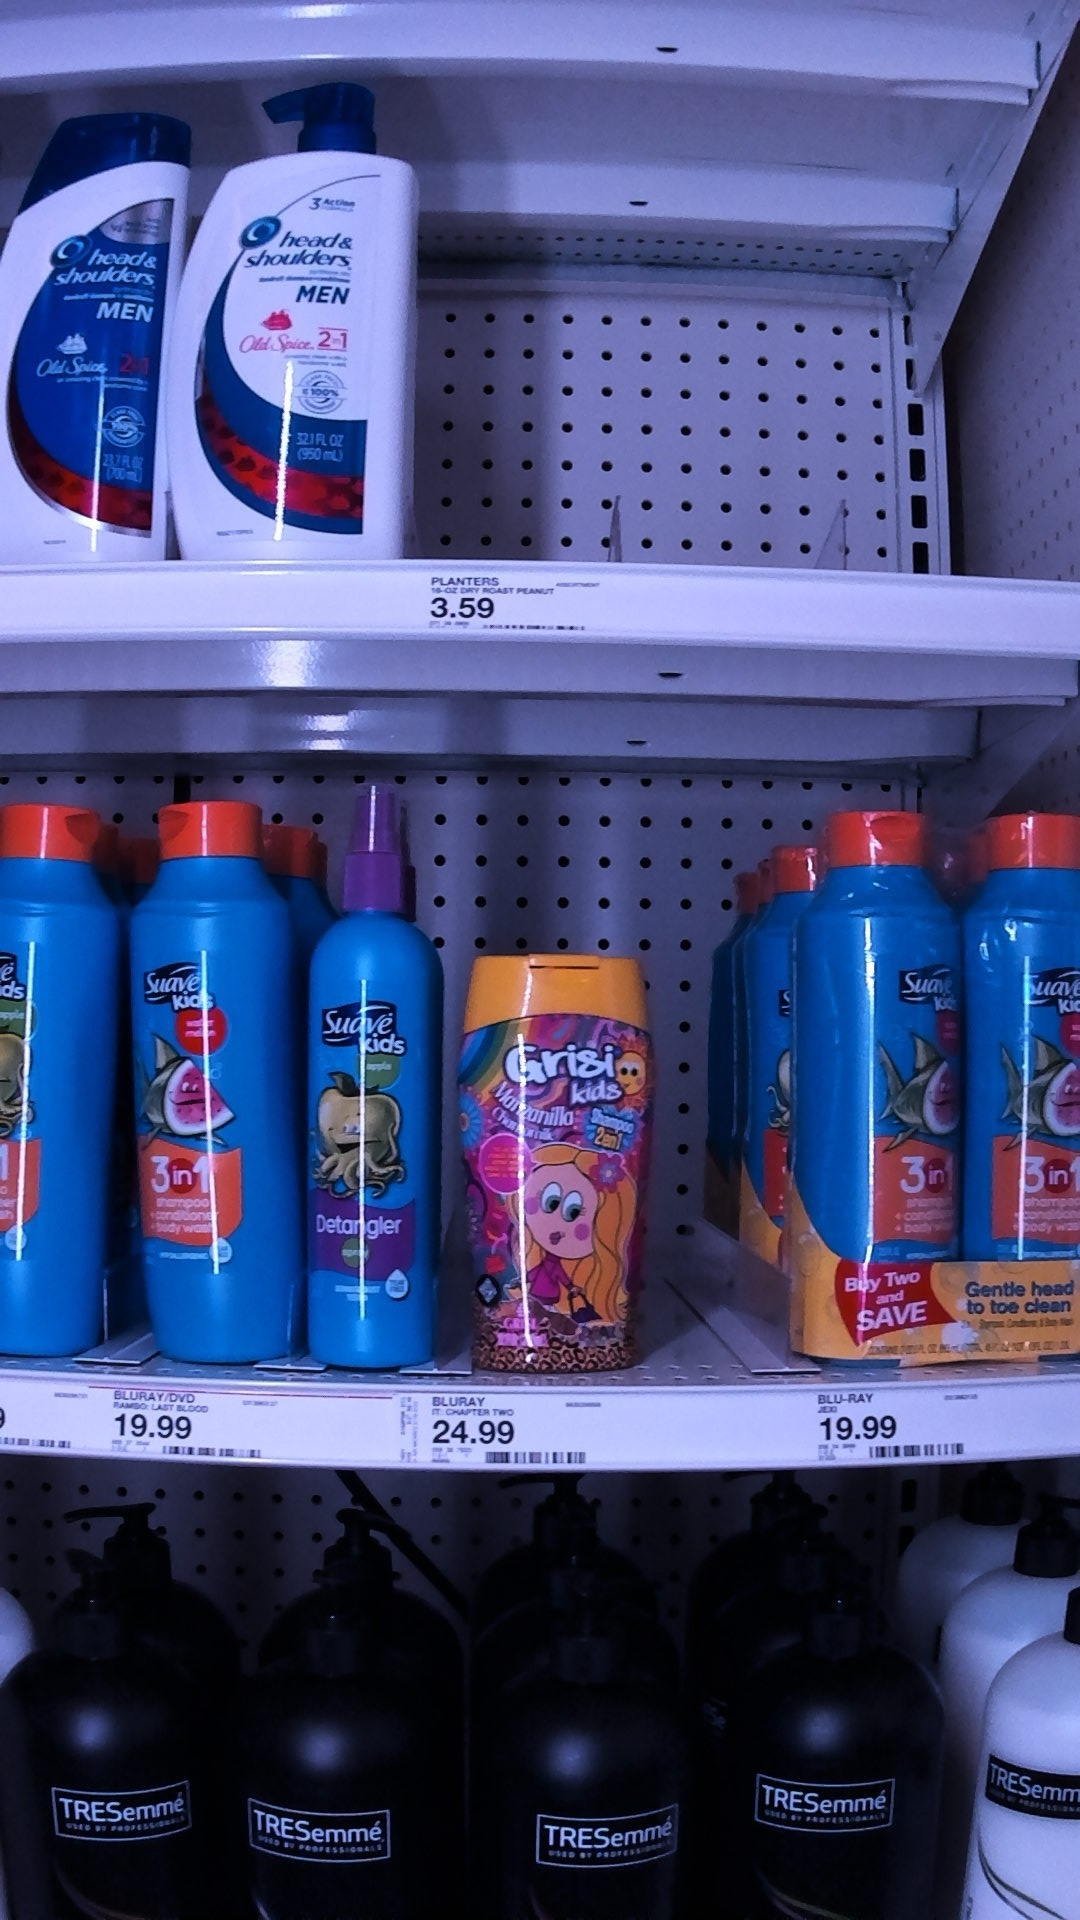ptag: (422, 562, 607, 644)
